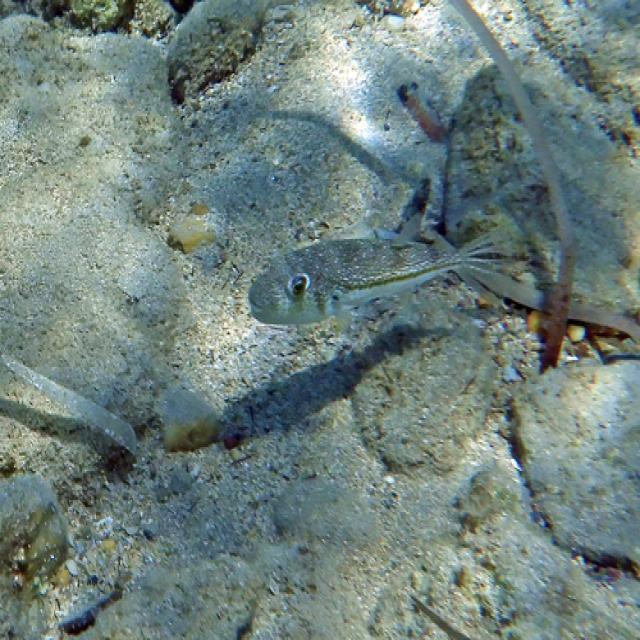Balik: (249, 239, 495, 324)
